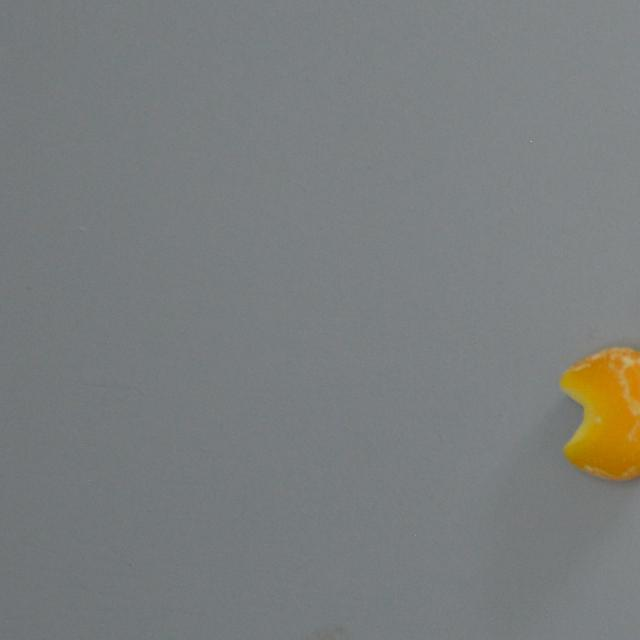dañado: (556, 342, 640, 487)
